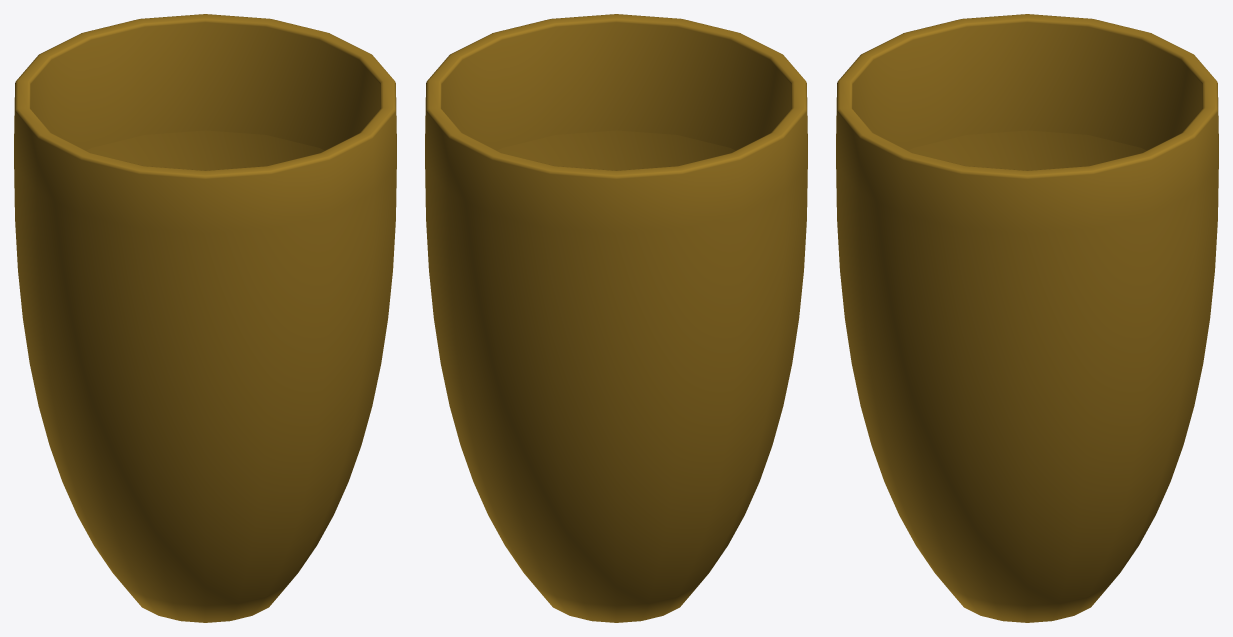
Rendered from Pot_3.FBX.
The picture shows the model from 3 angles, left to right: view 1: azimuth 30°, elevation 25°; view 2: azimuth 150°, elevation 25°; view 3: azimuth 270°, elevation 25°; orthographic projection.
Visible parts, largest first — view 1: Pot_3; view 2: Pot_3; view 3: Pot_3.
Boxes of the visible parts, box(x1,y1,x2,y2) form: Pot_3: box(14, 14, 396, 622); Pot_3: box(425, 14, 807, 622); Pot_3: box(836, 14, 1218, 622).
Size of the model in its own units: 19.84 by 28.02 by 19.54.
